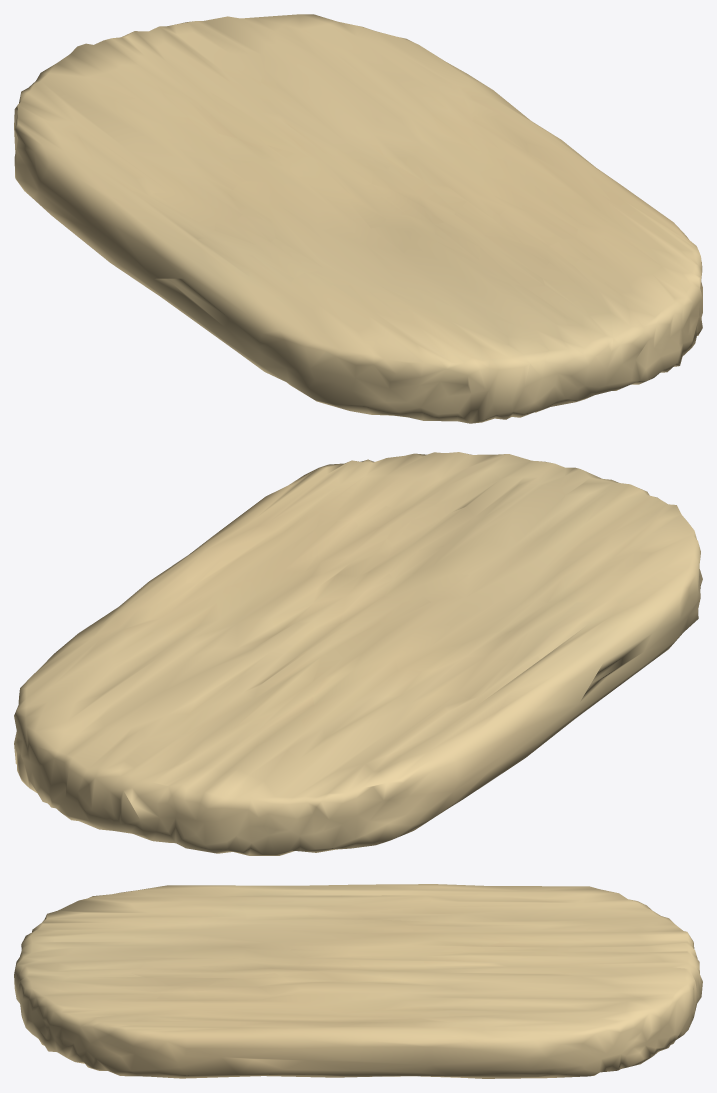
The model's file is shore_lolly_stick.glb.
The picture shows the model from 3 angles, top to bottom: view 1: azimuth 30°, elevation 25°; view 2: azimuth 150°, elevation 25°; view 3: azimuth 270°, elevation 25°; orthographic projection. The views are drawn at different scales.
Visible parts, largest first — view 1: shore_lolly_stick; view 2: shore_lolly_stick; view 3: shore_lolly_stick.
Part boxes in pixels (x1,y1,x2,y2): shore_lolly_stick: (14,14,702,423); shore_lolly_stick: (14,452,702,855); shore_lolly_stick: (14,884,702,1078).
Bounding box in the file's own units: 6.05 × 0.8869 × 11.01.
